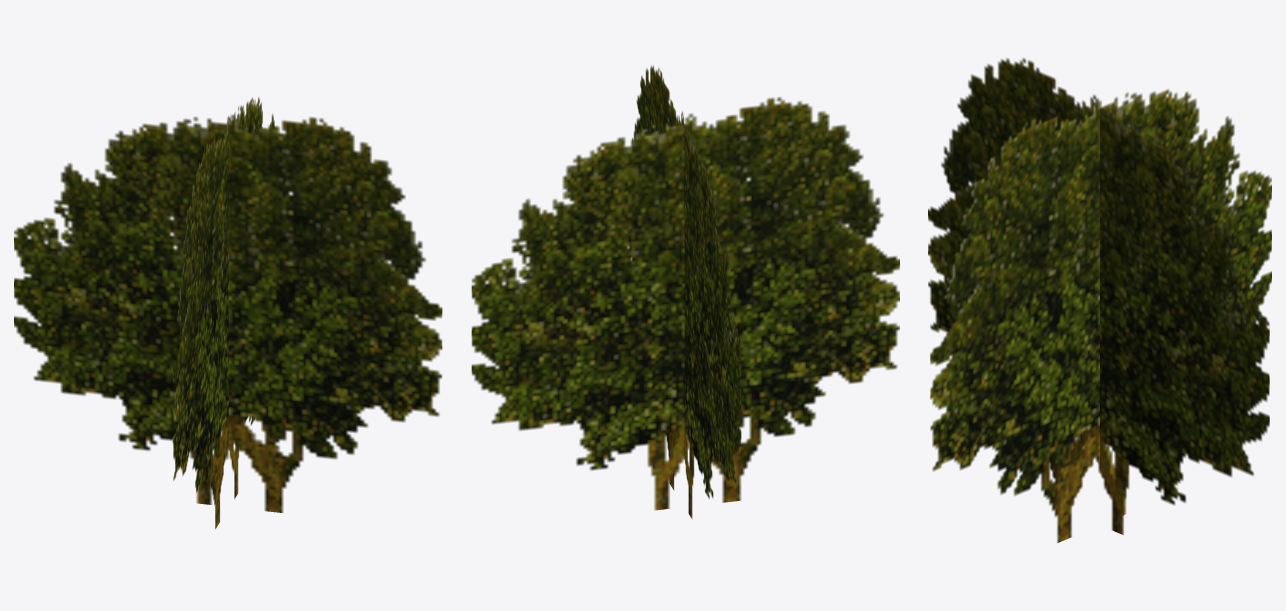
Rendered from tree104.glb.
3 views of the same model, side by side, from view 1: azimuth 30°, elevation 25°; view 2: azimuth 150°, elevation 25°; view 3: azimuth 270°, elevation 25° (orthographic). The views are drawn at different scales.
Parts seen in each view (by area): view 1: tree104; view 2: tree104; view 3: tree104.
Part boxes in pixels (x1,y1,x2,y2): tree104: (14, 97, 442, 528); tree104: (471, 65, 899, 518); tree104: (928, 58, 1271, 542).
Bounding box in the file's own units: 2.78 × 4 × 2.78.
1 material, 1 textured.
